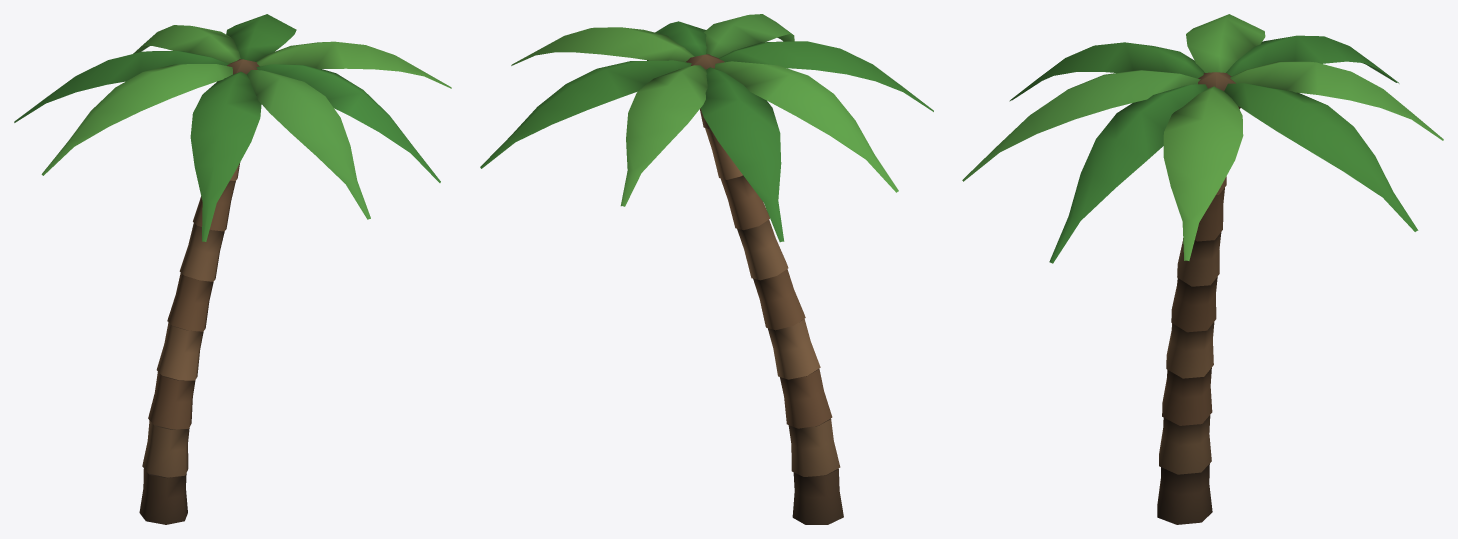
The model's file is PB_Palm_A.glb.
The picture shows the model from 3 angles, left to right: view 1: azimuth 30°, elevation 25°; view 2: azimuth 150°, elevation 25°; view 3: azimuth 270°, elevation 25°; orthographic projection. The views are drawn at different scales.
Visible parts, largest first — view 1: PB_Palm_A_2_SmoothPlastic, PB_Palm_A_1_Wood; view 2: PB_Palm_A_2_SmoothPlastic, PB_Palm_A_1_Wood; view 3: PB_Palm_A_2_SmoothPlastic, PB_Palm_A_1_Wood.
Boxes of the visible parts, <box> form: PB_Palm_A_2_SmoothPlastic: <box>14,14,451,241</box>; PB_Palm_A_1_Wood: <box>139,59,259,524</box>; PB_Palm_A_2_SmoothPlastic: <box>480,14,933,242</box>; PB_Palm_A_1_Wood: <box>686,54,843,524</box>; PB_Palm_A_2_SmoothPlastic: <box>962,14,1443,263</box>; PB_Palm_A_1_Wood: <box>1157,72,1240,524</box>.
Size of the model in its own units: 15.03 by 15.95 by 13.87.
